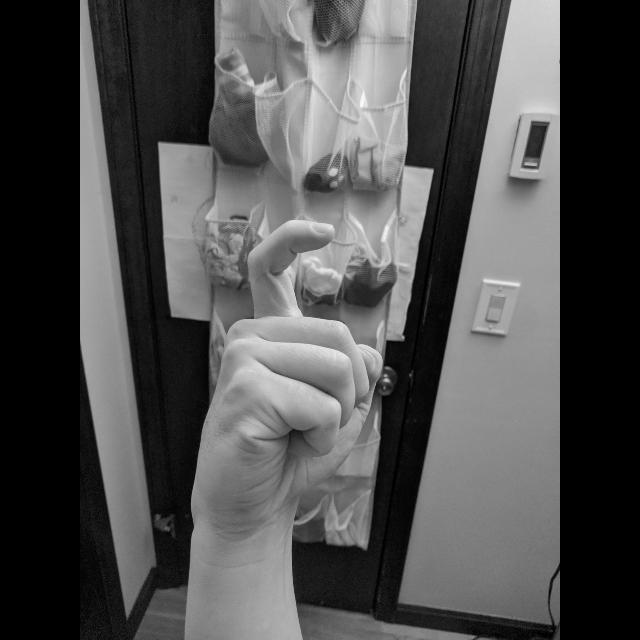X: (178, 214, 392, 528)
